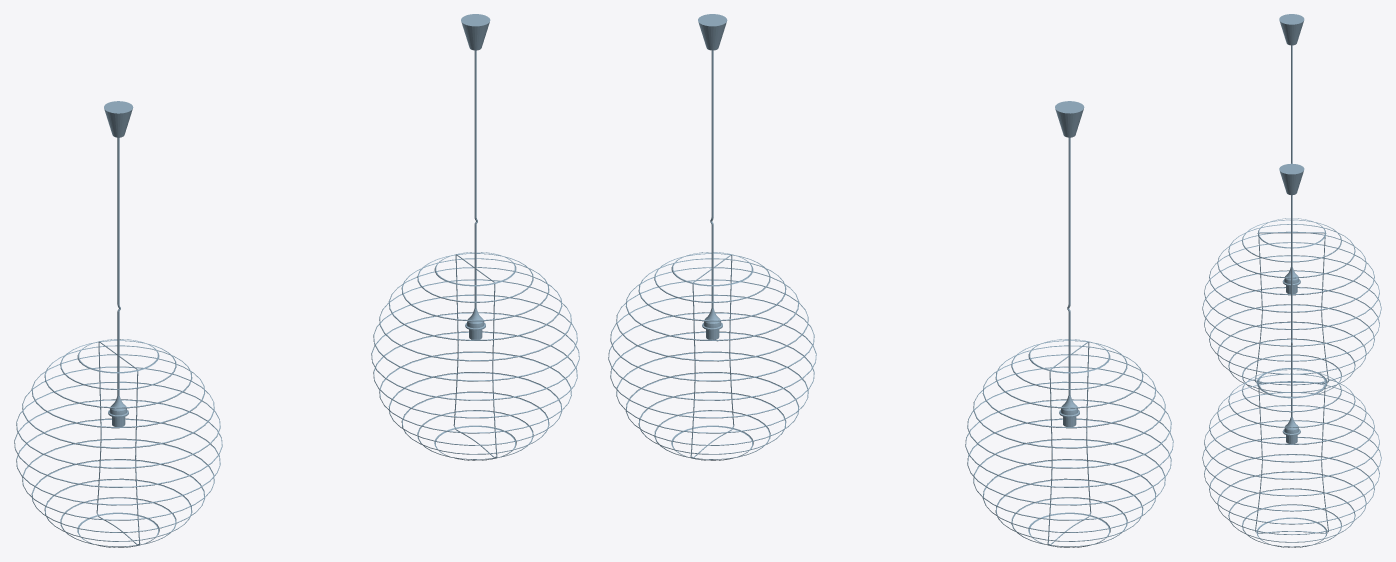
The model's file is _mainm1_Object11.obj.
The picture shows the model from 3 angles, left to right: view 1: azimuth 30°, elevation 25°; view 2: azimuth 150°, elevation 25°; view 3: azimuth 270°, elevation 25°; orthographic projection. The views are drawn at different scales.
Visible parts, largest first — view 1: _mainm1_Object11; view 2: _mainm1_Object11; view 3: _mainm1_Object11.
Part boxes in pixels (x1=…): _mainm1_Object11: x1=14, y1=14, x2=579, y2=547; _mainm1_Object11: x1=608, y1=14, x2=1173, y2=547; _mainm1_Object11: x1=1202, y1=14, x2=1381, y2=547.
Bounding box in the file's own units: 1193 × 899 × 401.
